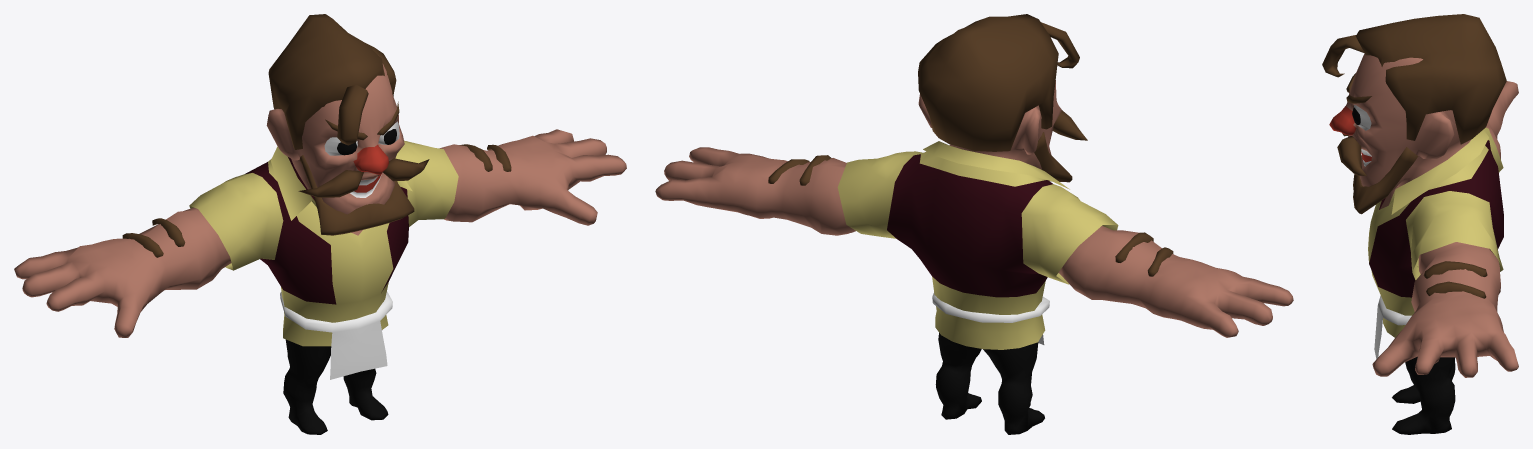
The model's file is Merchant_re 1.fbx.
The picture shows the model from 3 angles, left to right: view 1: azimuth 30°, elevation 25°; view 2: azimuth 150°, elevation 25°; view 3: azimuth 270°, elevation 25°; orthographic projection. The views are drawn at different scales.
Parts seen in each view (by area): view 1: RetopoFlow_Body_, RetopoFlow_Head.003, Hair_Retop, RetopoFlow_Head.001, apron.001, Retopo_Beard.001, Mustache.001, Clothes.003, Eyebrows.002, Retop.002, RetopoFlow_Eyes; view 2: RetopoFlow_Head.003, RetopoFlow_Body_, Hair_Retop, RetopoFlow_Head.001, Clothes.003, Eyebrows.002, apron.001, Retopo_Beard.001, Retop.002; view 3: RetopoFlow_Body_, Hair_Retop, RetopoFlow_Head.003, RetopoFlow_Head.001, Clothes.003, Retopo_Beard.001, Eyebrows.002, Retop.002, Mustache.001, apron.001, RetopoFlow_Eyes, Eyebrows.003.
Part boxes in pixels (box(x1,y1,x2,y2)): RetopoFlow_Body_: box(14, 63, 626, 337); RetopoFlow_Head.003: box(189, 140, 458, 346); Hair_Retop: box(268, 14, 396, 149); RetopoFlow_Head.001: box(283, 339, 388, 434); apron.001: box(280, 291, 392, 379); Retopo_Beard.001: box(299, 155, 414, 235); Mustache.001: box(298, 158, 429, 197); Clothes.003: box(270, 146, 412, 220); Eyebrows.002: box(122, 144, 511, 257); Retop.002: box(337, 85, 368, 145); RetopoFlow_Eyes: box(324, 121, 399, 155); RetopoFlow_Head.003: box(837, 151, 1118, 349); RetopoFlow_Body_: box(655, 80, 1293, 337); Hair_Retop: box(918, 14, 1058, 151); RetopoFlow_Head.001: box(935, 333, 1044, 434); Clothes.003: box(923, 141, 1069, 189); Eyebrows.002: box(768, 155, 1173, 276); apron.001: box(932, 292, 1049, 344); Retopo_Beard.001: box(1034, 132, 1072, 182); Retop.002: box(1041, 22, 1079, 68); RetopoFlow_Body_: box(1329, 54, 1518, 377); Hair_Retop: box(1356, 14, 1506, 144); RetopoFlow_Head.003: box(1368, 127, 1503, 337); RetopoFlow_Head.001: box(1392, 356, 1455, 434); Clothes.003: box(1389, 129, 1488, 214); Retopo_Beard.001: box(1353, 147, 1418, 214); Eyebrows.002: box(1423, 261, 1487, 298); Retop.002: box(1322, 35, 1366, 77); Mustache.001: box(1337, 133, 1366, 175); apron.001: box(1374, 295, 1411, 358); RetopoFlow_Eyes: box(1352, 105, 1371, 130); Eyebrows.003: box(1346, 73, 1371, 103).
Bounding box in the file's own units: 4.34 × 2.74 × 1.22.
